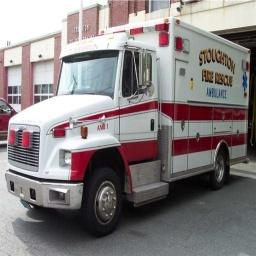Ambulance: (6, 17, 249, 235)
